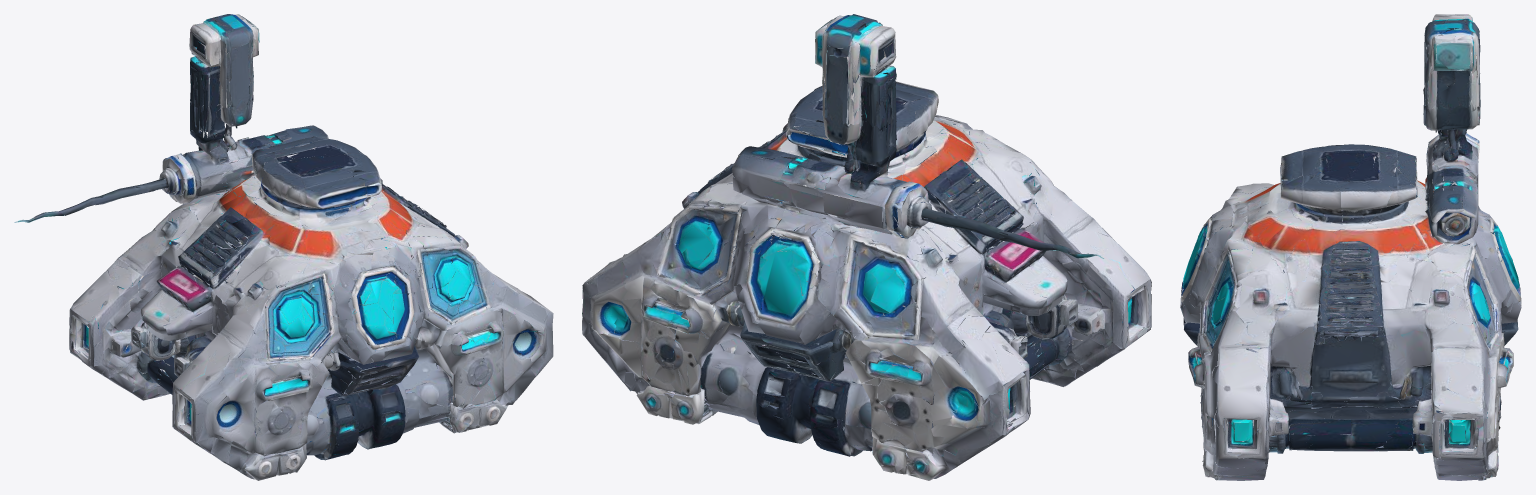
The model's file is broadcast.glb.
3 views of the same model, side by side, from view 1: azimuth 30°, elevation 25°; view 2: azimuth 150°, elevation 25°; view 3: azimuth 270°, elevation 25° (orthographic). The views are drawn at different scales.
Visible parts, largest first — view 1: Mesh_0; view 2: Mesh_0; view 3: Mesh_0.
Part boxes in pixels (bbox=[...]): Mesh_0: bbox=[14, 14, 553, 480]; Mesh_0: bbox=[582, 14, 1151, 480]; Mesh_0: bbox=[1180, 14, 1521, 480].
Bounding box in the file's own units: 1.9 × 1.55 × 1.24.
1 material, 1 textured.
